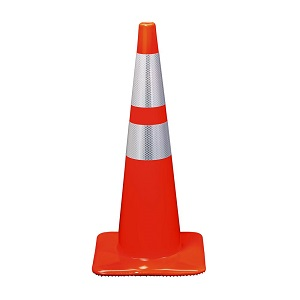traffic cone: (92, 22, 206, 276)
